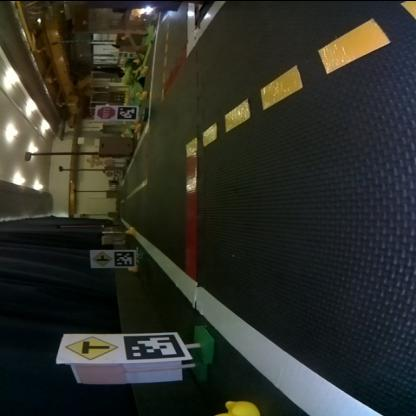Duckie: (214, 398, 261, 414), (136, 89, 148, 98), (137, 64, 147, 70), (125, 226, 133, 233)
Intersection sign: (63, 332, 117, 358), (91, 249, 112, 266)
QR code: (124, 331, 186, 359), (116, 249, 134, 266), (117, 105, 137, 119)
Stop sign: (96, 104, 114, 118)
